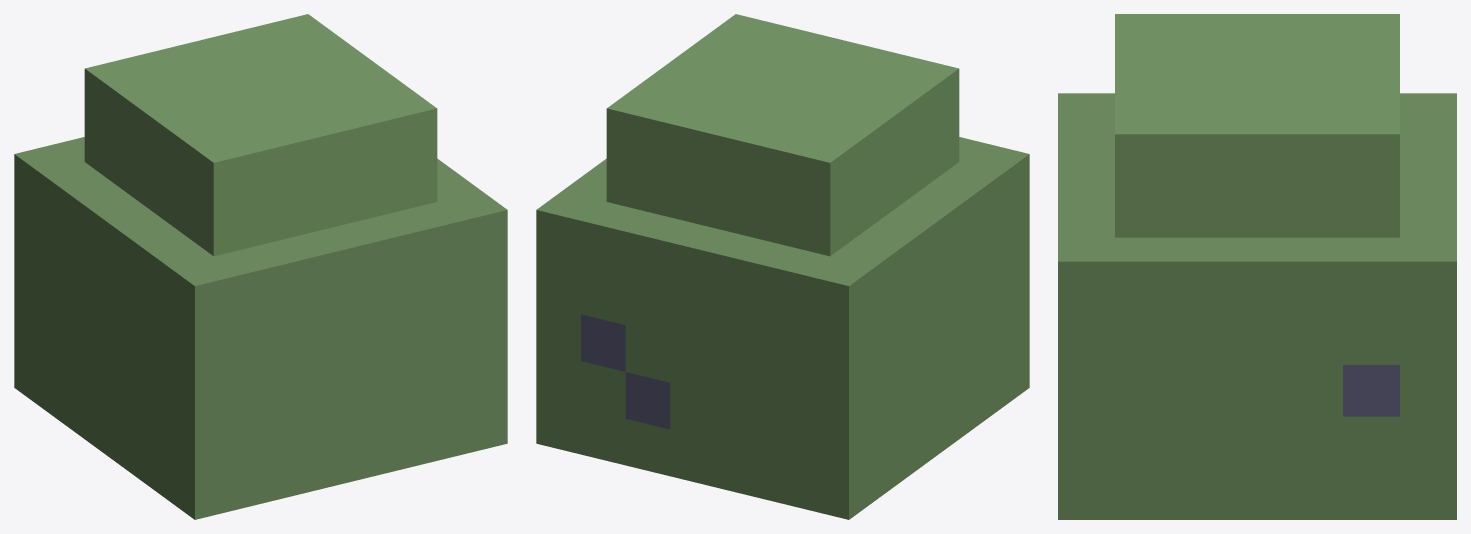
The model's file is endrino_03.glb.
3 renders of one model, left to right at view 1: azimuth 30°, elevation 25°; view 2: azimuth 150°, elevation 25°; view 3: azimuth 270°, elevation 25°, orthographic. The views are drawn at different scales.
Parts seen in each view (by area): view 1: endrino_03; view 2: endrino_03; view 3: endrino_03.
Boxes of the visible parts, x1,y1,x2,y2 form: endrino_03: (14, 14, 507, 519); endrino_03: (536, 14, 1029, 519); endrino_03: (1058, 14, 1456, 519).
Bounding box in the file's own units: 0.7 × 0.7 × 0.7.
